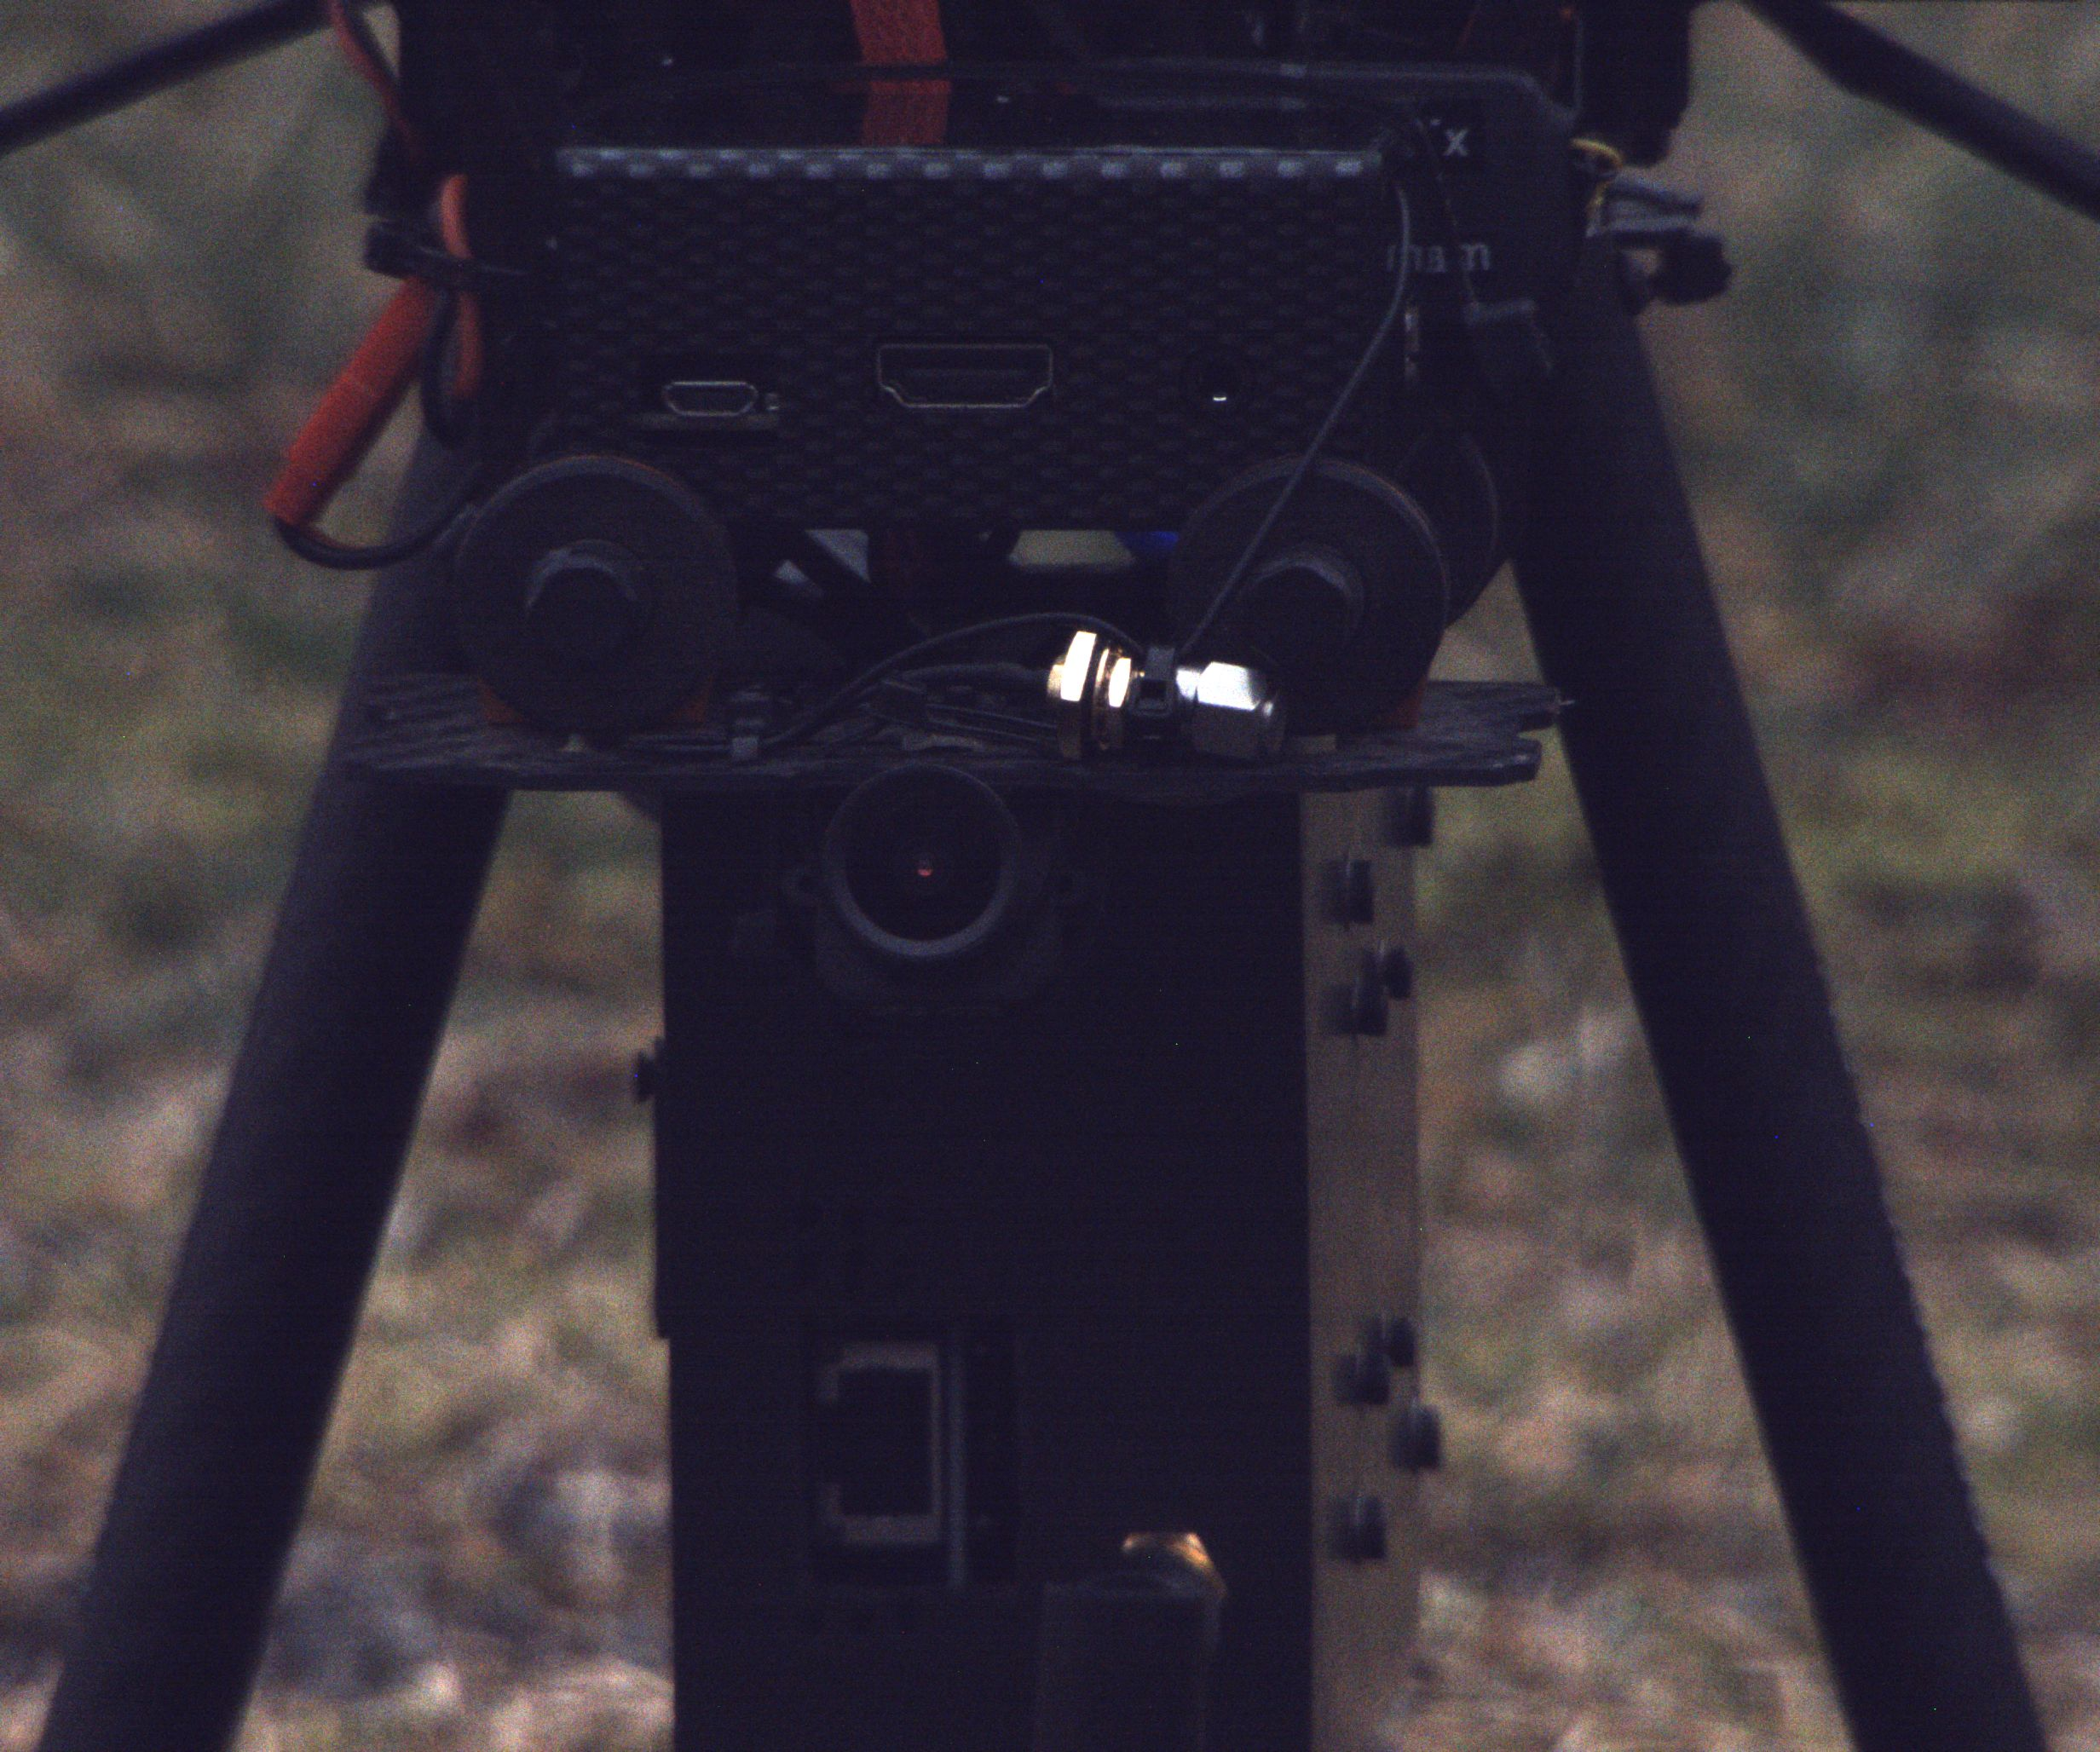Drohne: (9, 10, 2097, 1726)
